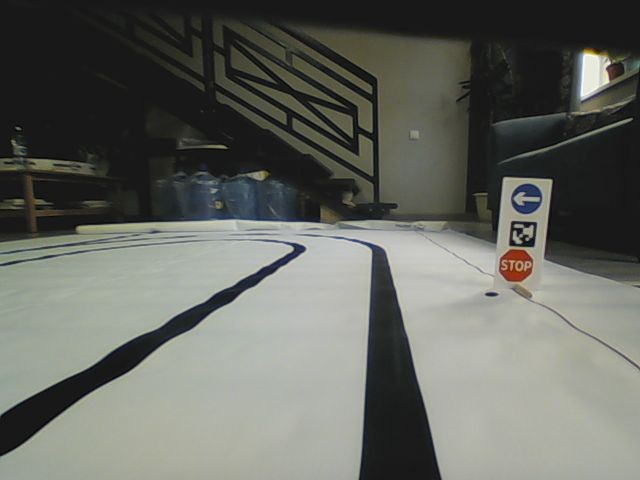Stop: (499, 249, 533, 281)
